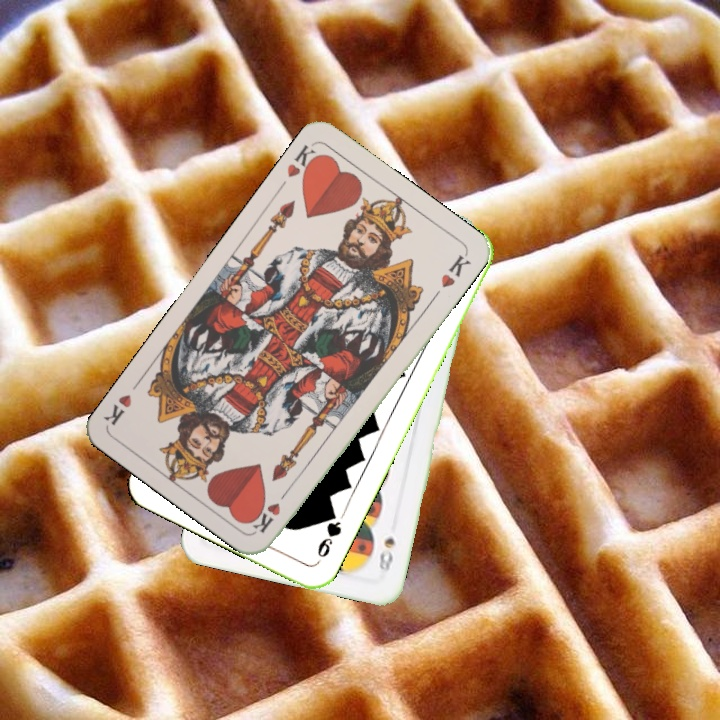G9: (312, 507, 344, 566)
HK: (249, 483, 293, 536), (282, 140, 325, 184)
S8: (374, 533, 398, 576)
